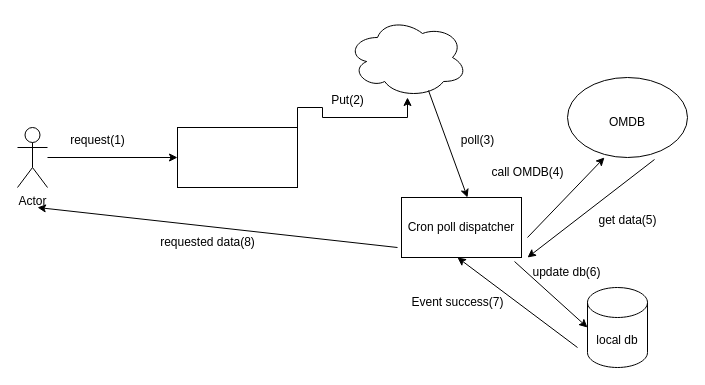
This 705x385 diagram has some shape labels left out. Each missing label, with the centre of its shape:
"MoviesDigger" belongs at point (237, 157).
"Queue" belongs at point (407, 57).
